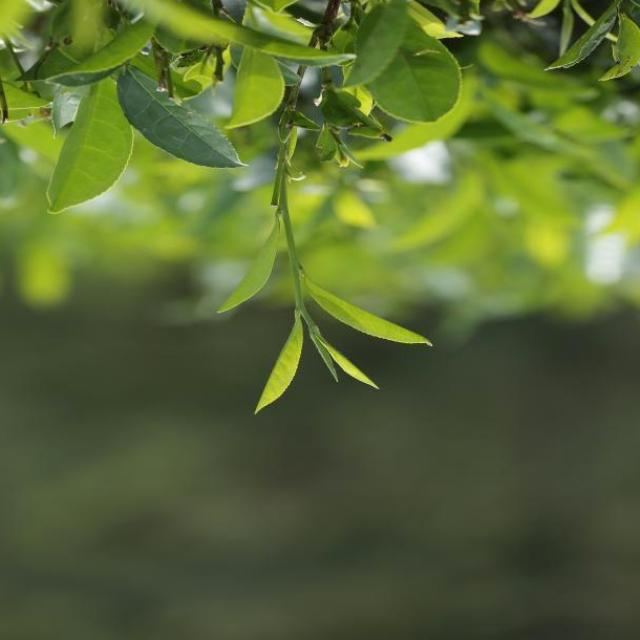Stem: (296, 300, 304, 311)
